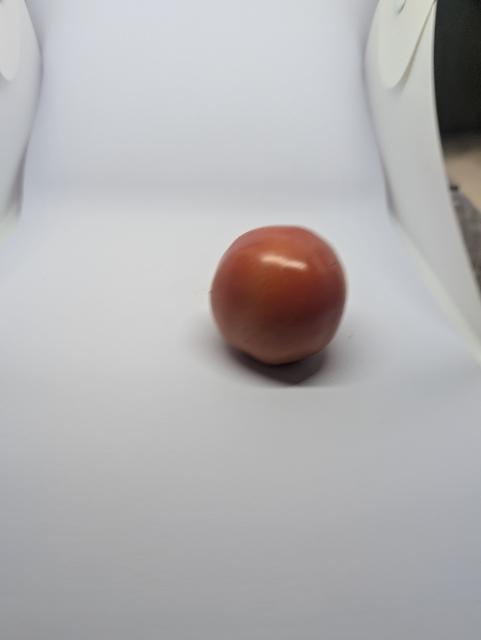red: (198, 211, 382, 392)
